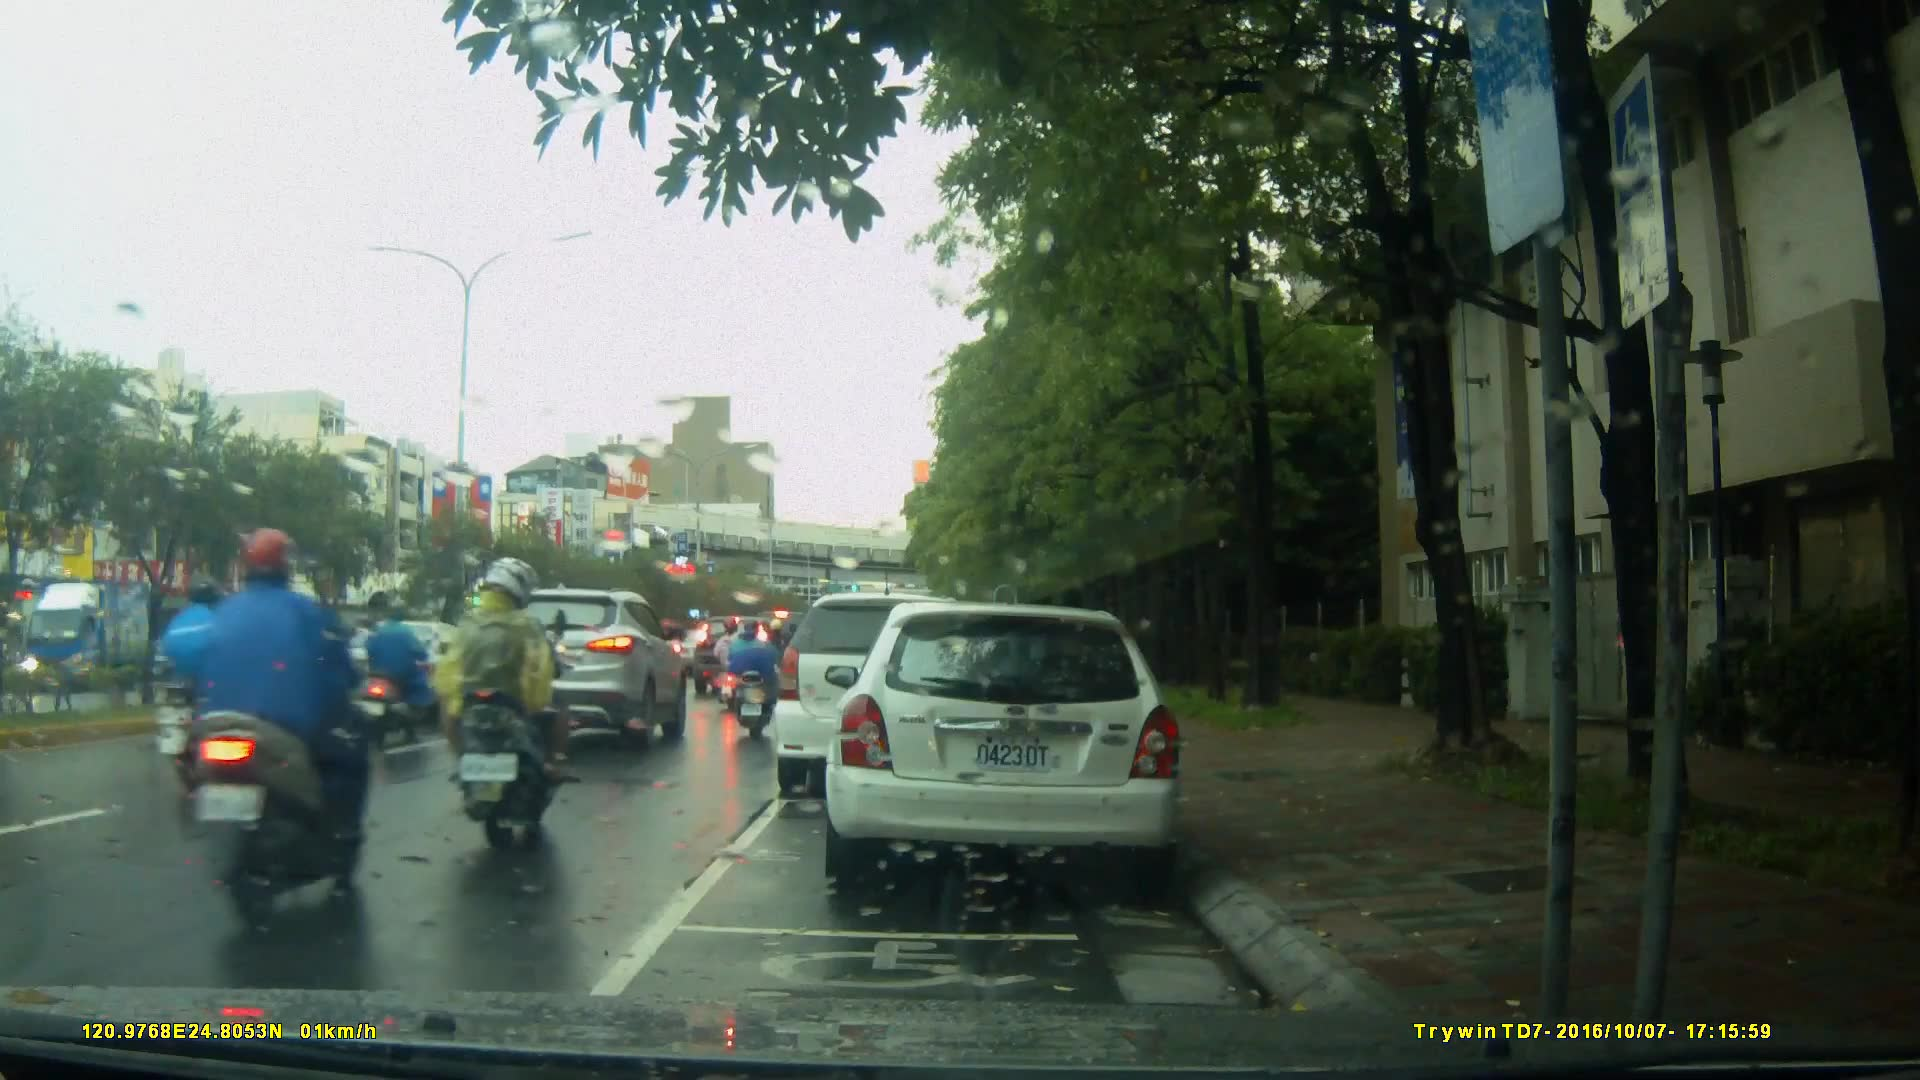rider: (178, 518, 370, 924), (442, 559, 574, 844), (159, 579, 246, 783), (350, 594, 440, 753), (726, 615, 785, 739), (713, 613, 754, 715), (762, 618, 795, 703)
vehicle: (822, 604, 1188, 883), (774, 595, 995, 802), (463, 585, 689, 754), (20, 576, 167, 697), (693, 615, 771, 701)
